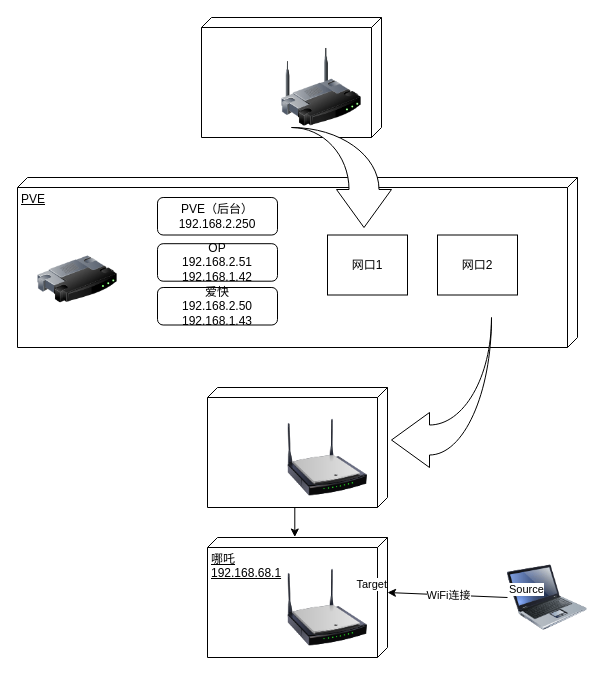
Some shapes in this 605 by 675 pixel diagram are drawn without their labels. The box of each missing label's shape, as (x1, y1, x2, y2) in pixels:
光猫 192.168.1.1: (200, 16, 382, 138)
鲁班 192.168.3.1: (206, 386, 388, 508)
